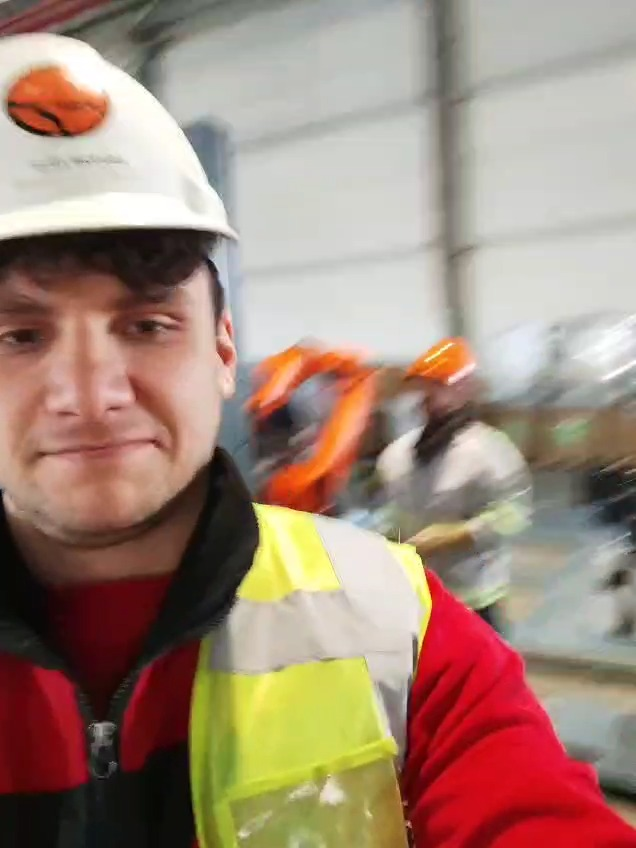safety_helmet: (1, 30, 240, 246), (403, 335, 478, 388)
